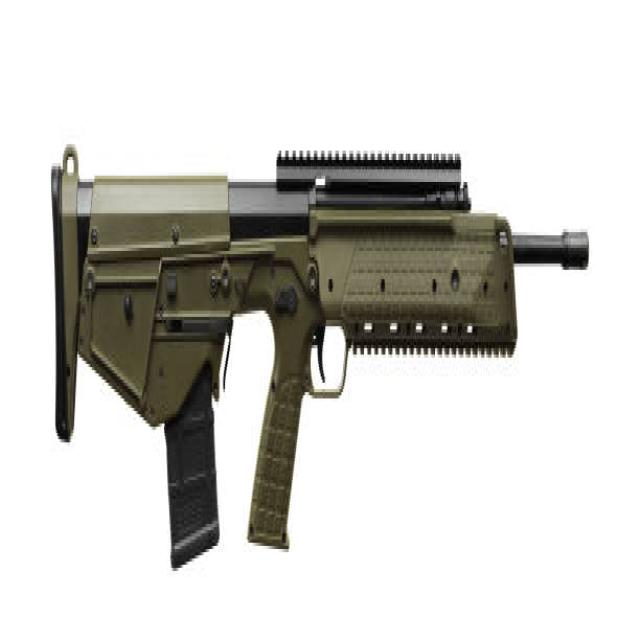rifle: (51, 118, 593, 587)
